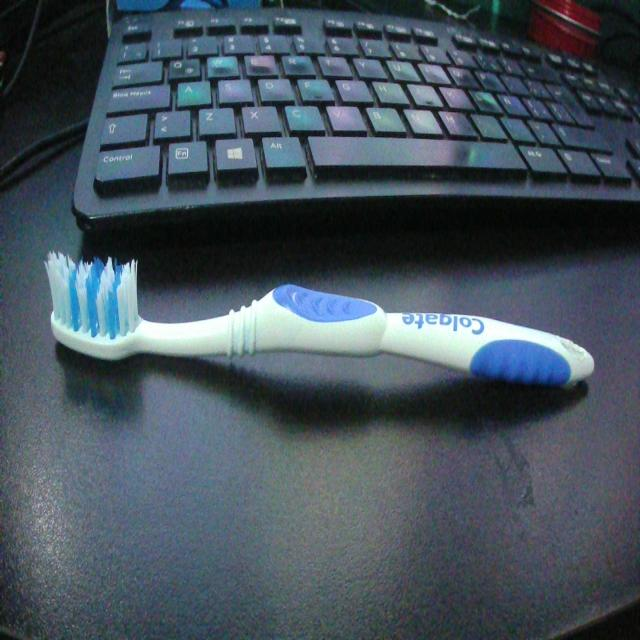Organico: (38, 239, 609, 412)
